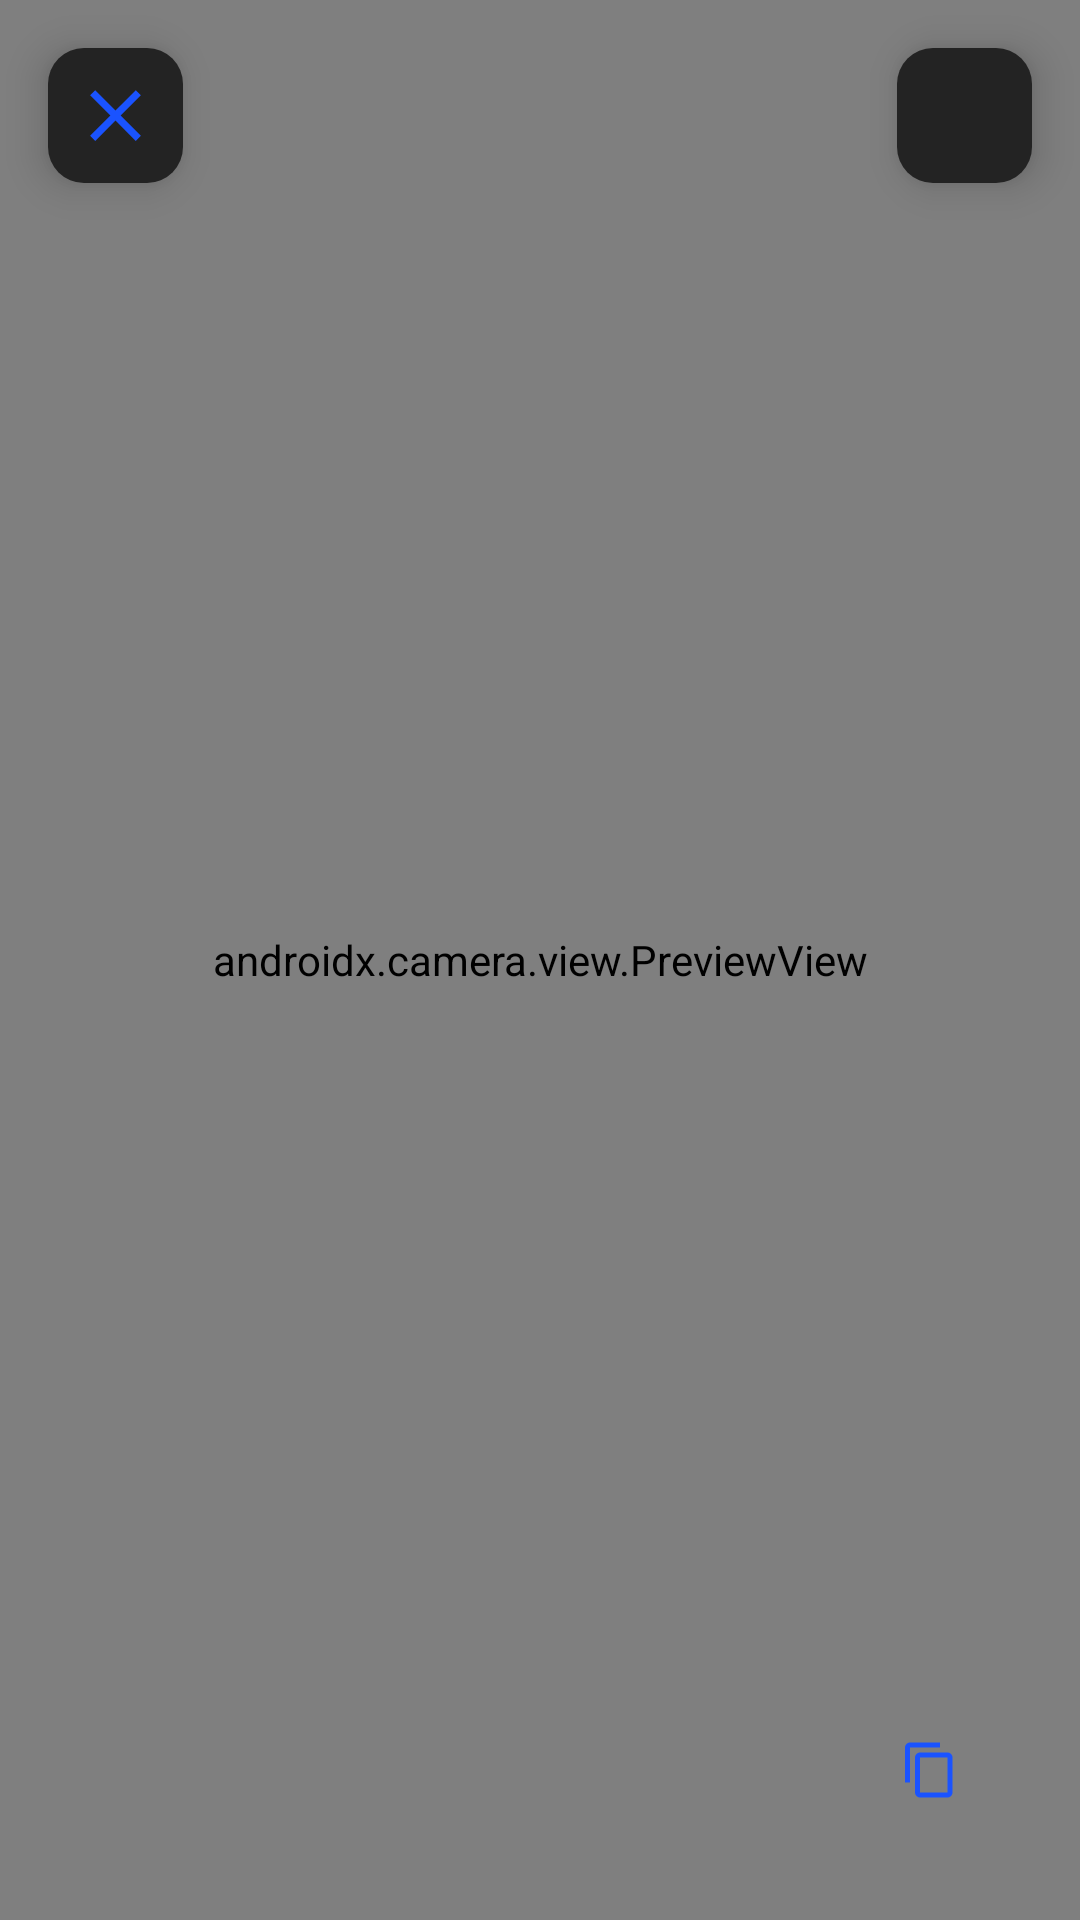

Where to tap for icons on this 1080*1920 app screen, as (x=x, y=y):
close: (x=115, y=115)
